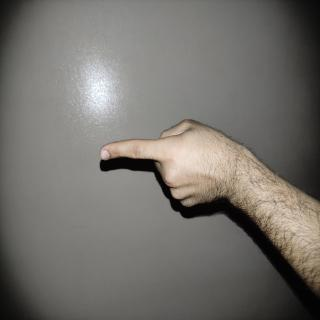BAA: (82, 128, 152, 320)
